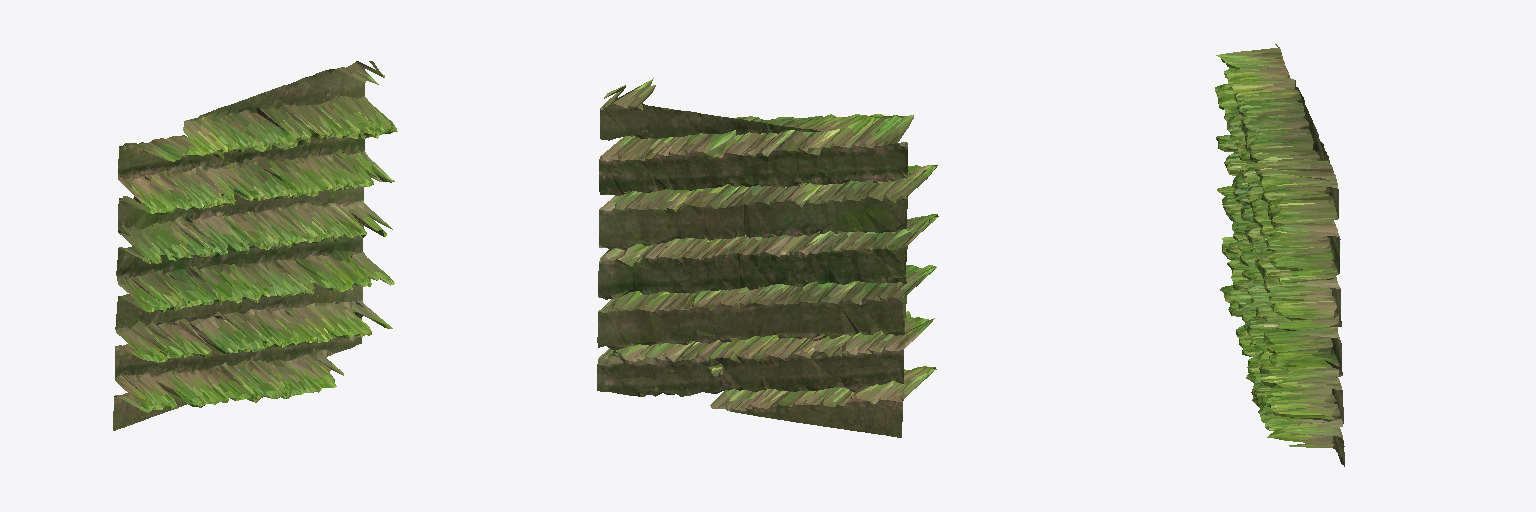
3 views of the same model, side by side, from view 1: azimuth 30°, elevation 25°; view 2: azimuth 150°, elevation 25°; view 3: azimuth 270°, elevation 25° (orthographic).
Visible parts, largest first — view 1: grp1; view 2: grp1; view 3: grp1.
Part boxes in pixels (x1,y1,x2,y2): grp1: (113,61,397,430); grp1: (597,78,938,437); grp1: (1215,44,1344,466).
Size of the model in its own units: 10 by 10 by 4.08.
1 materials, 1 textured.